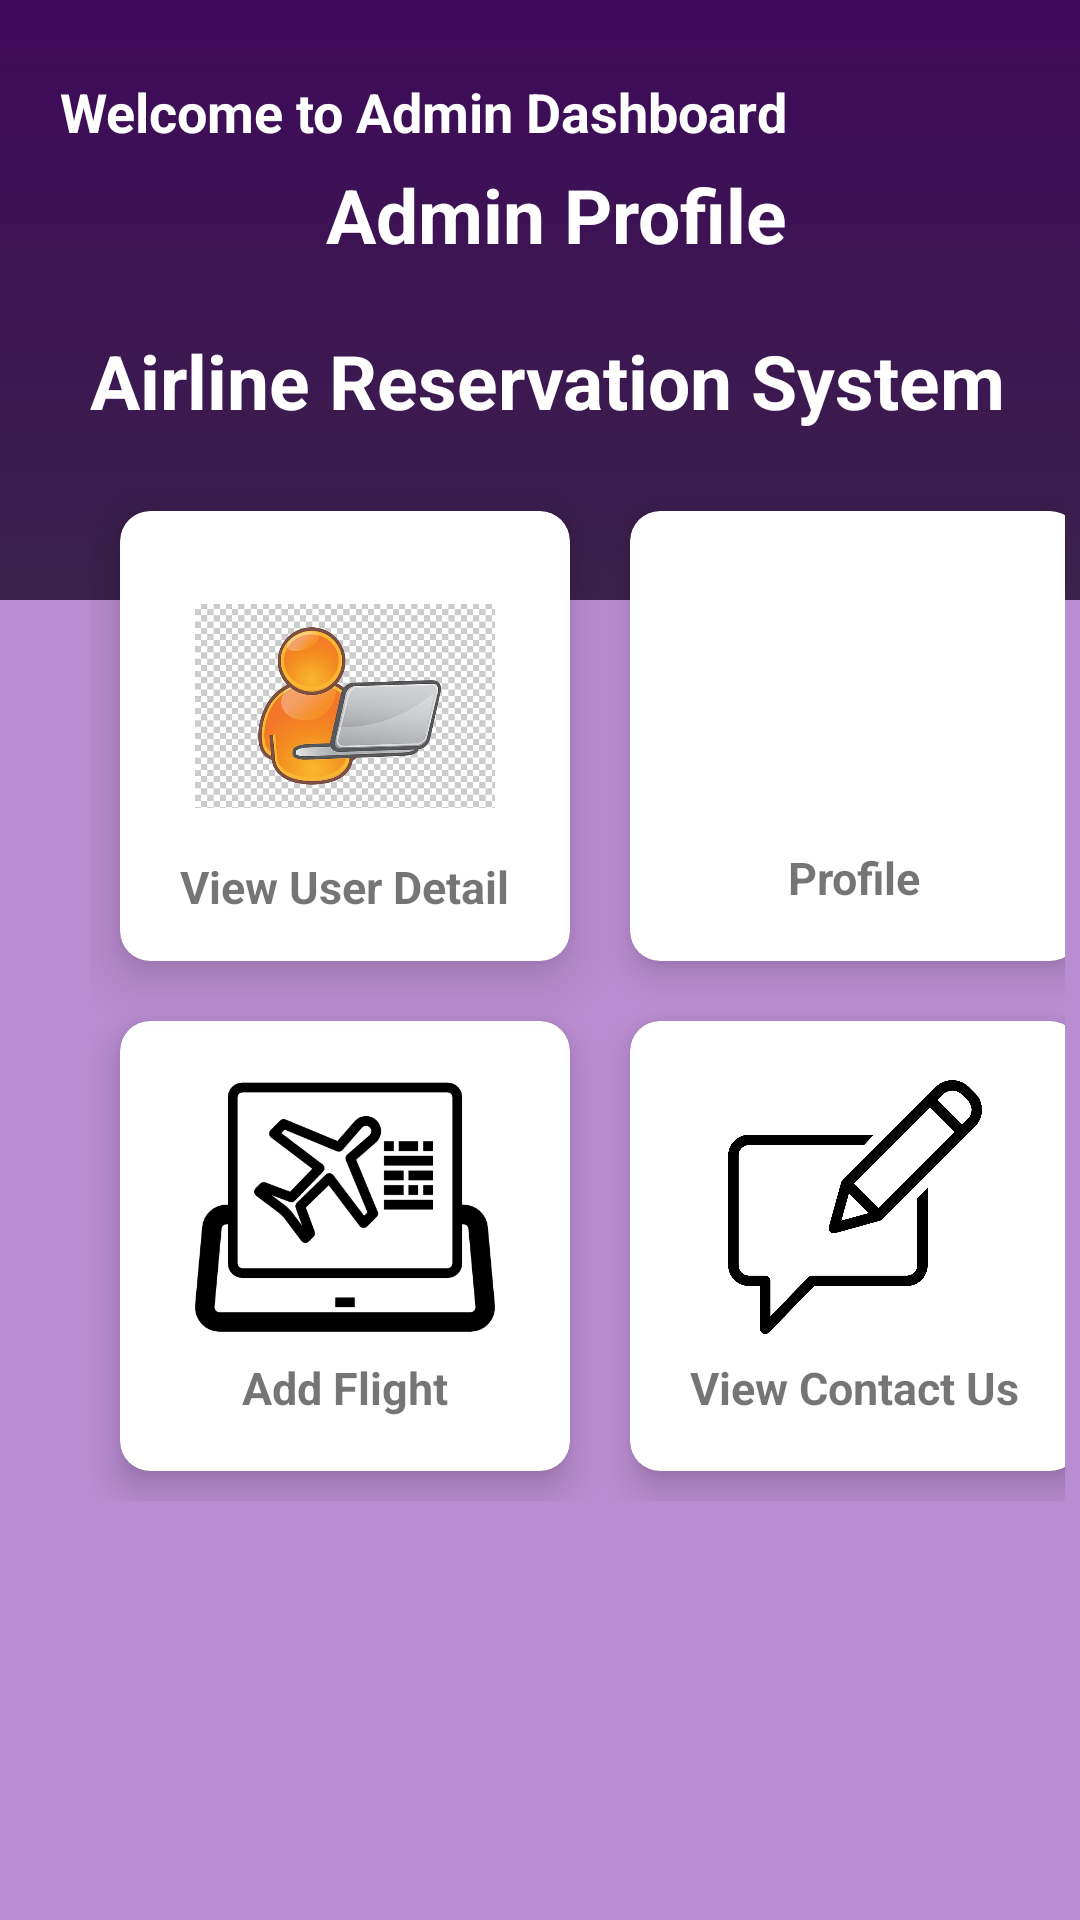

Screen size 1080px×1920px. Icon name, then its box in pixels as (x1, y1, x2, y2):
bookingflight: (195, 1082, 495, 1332)
edituser: (195, 604, 495, 808)
feedback: (728, 1080, 982, 1334)
